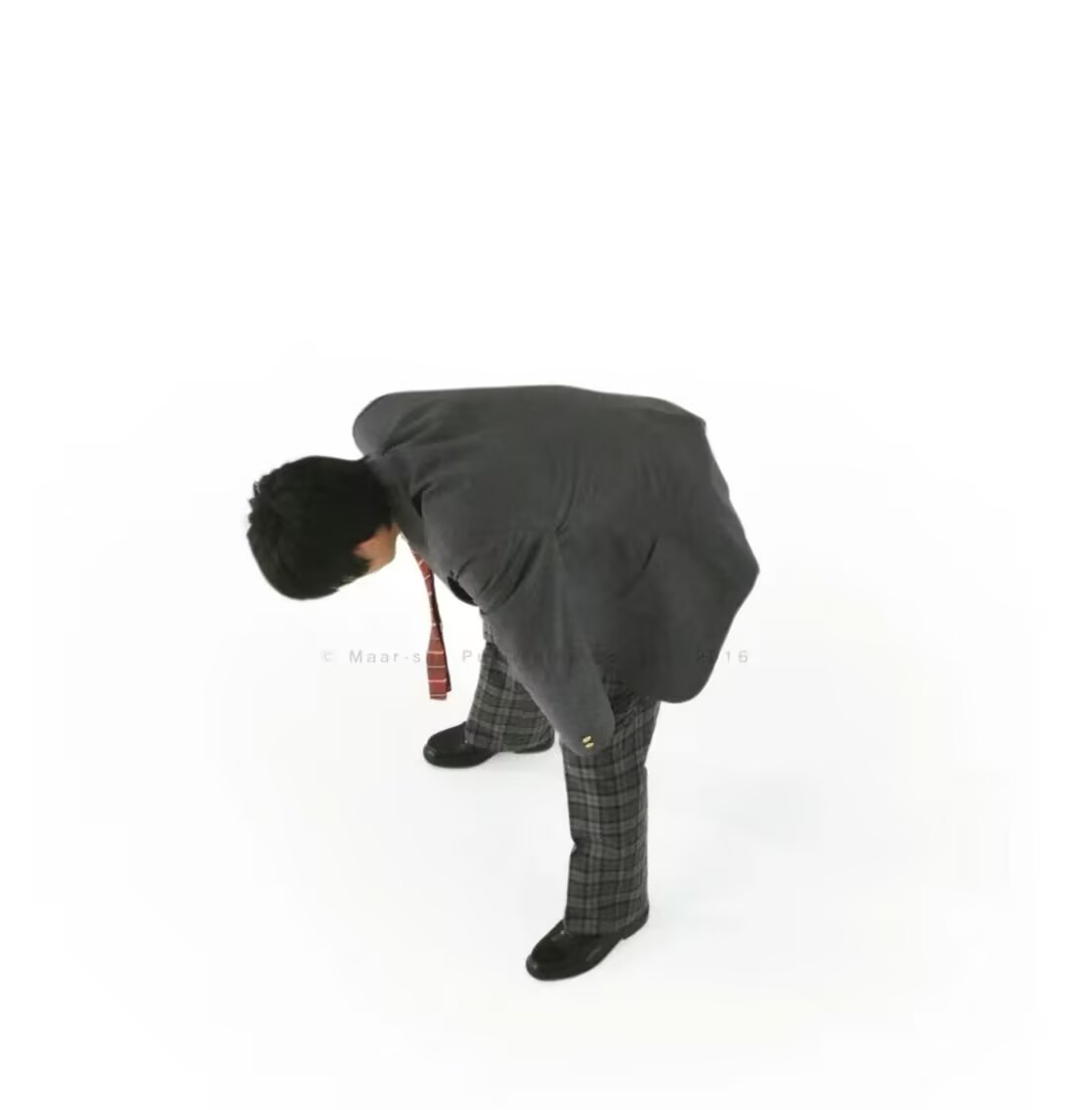bending: (194, 362, 819, 998)
